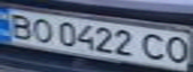0: (54, 19, 78, 48)
2: (112, 26, 139, 60), (90, 25, 115, 56)
4: (75, 22, 96, 52)
B: (3, 10, 39, 39)
C: (139, 30, 172, 62)
O: (160, 34, 193, 66), (27, 16, 57, 44)
